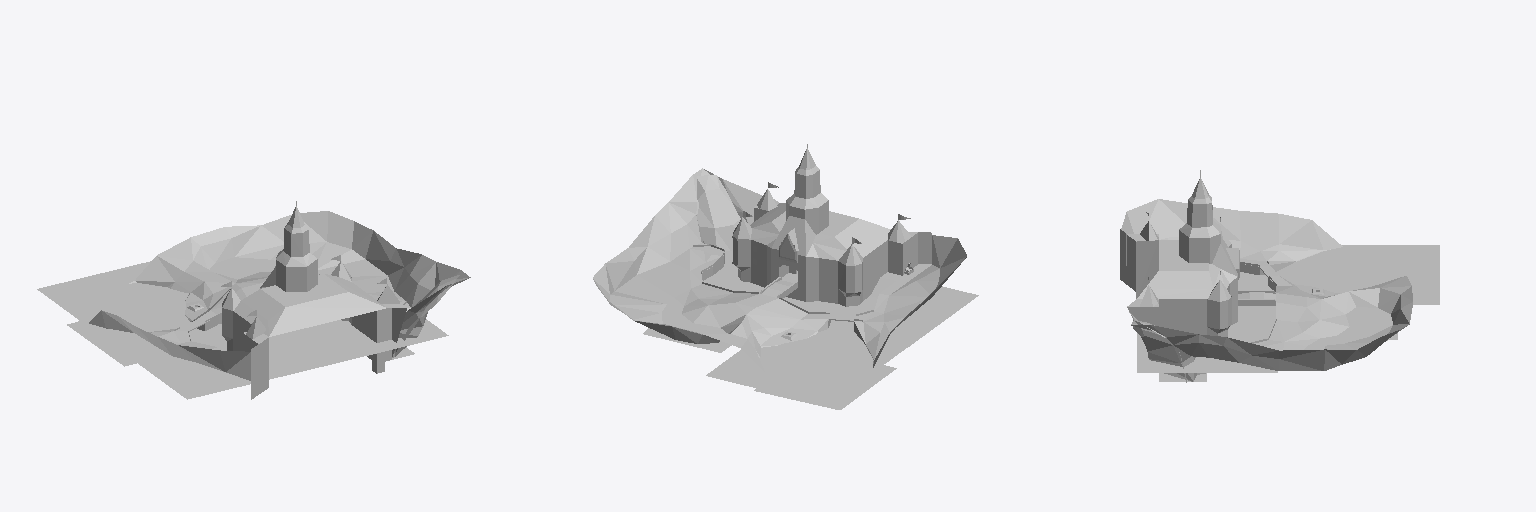
The model's file is Peaches Castle.obj.
The picture shows the model from 3 angles: view 1: azimuth 30°, elevation 25°; view 2: azimuth 150°, elevation 25°; view 3: azimuth 270°, elevation 25°; orthographic projection.
Parts seen in each view (by area): view 1: Shape_IndexedFaceSet_137_Shape_IndexedFaceSet.259, Shape_IndexedFaceSet_038_Shape_IndexedFaceSet.160, Shape_IndexedFaceSet_012_Shape_IndexedFaceSet.134, Shape_IndexedFaceSet_022_Shape_IndexedFaceSet.144, Shape_IndexedFaceSet_017_Shape_IndexedFaceSet.139, Shape_IndexedFaceSet_026_Shape_IndexedFaceSet.148, Shape_IndexedFaceSet_071_Shape_IndexedFaceSet.193; view 2: Shape_IndexedFaceSet_137_Shape_IndexedFaceSet.259, Shape_IndexedFaceSet_038_Shape_IndexedFaceSet.160, Shape_IndexedFaceSet_022_Shape_IndexedFaceSet.144, Shape_IndexedFaceSet_017_Shape_IndexedFaceSet.139, Shape_IndexedFaceSet_012_Shape_IndexedFaceSet.134, Shape_IndexedFaceSet_026_Shape_IndexedFaceSet.148, Shape_IndexedFaceSet_071_Shape_IndexedFaceSet.193, Shape_IndexedFaceSet_136_Shape_IndexedFaceSet.258; view 3: Shape_IndexedFaceSet_038_Shape_IndexedFaceSet.160, Shape_IndexedFaceSet_137_Shape_IndexedFaceSet.259, Shape_IndexedFaceSet_012_Shape_IndexedFaceSet.134, Shape_IndexedFaceSet_017_Shape_IndexedFaceSet.139, Shape_IndexedFaceSet_022_Shape_IndexedFaceSet.144, Shape_IndexedFaceSet_026_Shape_IndexedFaceSet.148, Shape_IndexedFaceSet_071_Shape_IndexedFaceSet.193.
Boxes of the visible parts, x1=… form: Shape_IndexedFaceSet_137_Shape_IndexedFaceSet.259: x1=37, y1=261, x2=448, y2=399; Shape_IndexedFaceSet_038_Shape_IndexedFaceSet.160: x1=89, y1=211, x2=470, y2=380; Shape_IndexedFaceSet_012_Shape_IndexedFaceSet.134: x1=222, y1=206, x2=399, y2=339; Shape_IndexedFaceSet_022_Shape_IndexedFaceSet.144: x1=149, y1=242, x2=410, y2=347; Shape_IndexedFaceSet_017_Shape_IndexedFaceSet.139: x1=222, y1=303, x2=406, y2=399; Shape_IndexedFaceSet_026_Shape_IndexedFaceSet.148: x1=67, y1=257, x2=275, y2=366; Shape_IndexedFaceSet_071_Shape_IndexedFaceSet.193: x1=174, y1=201, x2=406, y2=373; Shape_IndexedFaceSet_137_Shape_IndexedFaceSet.259: x1=703, y1=250, x2=978, y2=405; Shape_IndexedFaceSet_038_Shape_IndexedFaceSet.160: x1=593, y1=168, x2=966, y2=371; Shape_IndexedFaceSet_022_Shape_IndexedFaceSet.144: x1=610, y1=243, x2=939, y2=359; Shape_IndexedFaceSet_017_Shape_IndexedFaceSet.139: x1=733, y1=199, x2=931, y2=306; Shape_IndexedFaceSet_012_Shape_IndexedFaceSet.134: x1=733, y1=148, x2=911, y2=265; Shape_IndexedFaceSet_026_Shape_IndexedFaceSet.148: x1=643, y1=247, x2=921, y2=409; Shape_IndexedFaceSet_071_Shape_IndexedFaceSet.193: x1=693, y1=144, x2=910, y2=334; Shape_IndexedFaceSet_136_Shape_IndexedFaceSet.258: x1=697, y1=175, x2=740, y2=251; Shape_IndexedFaceSet_038_Shape_IndexedFaceSet.160: x1=1121, y1=199, x2=1412, y2=381; Shape_IndexedFaceSet_137_Shape_IndexedFaceSet.259: x1=1137, y1=245, x2=1439, y2=372; Shape_IndexedFaceSet_012_Shape_IndexedFaceSet.134: x1=1136, y1=178, x2=1238, y2=306; Shape_IndexedFaceSet_017_Shape_IndexedFaceSet.139: x1=1120, y1=229, x2=1275, y2=336; Shape_IndexedFaceSet_022_Shape_IndexedFaceSet.144: x1=1161, y1=237, x2=1392, y2=350; Shape_IndexedFaceSet_026_Shape_IndexedFaceSet.148: x1=1240, y1=259, x2=1397, y2=346; Shape_IndexedFaceSet_071_Shape_IndexedFaceSet.193: x1=1146, y1=170, x2=1276, y2=374.
Size of the model in its own units: 16.44 by 9.96 by 16.22.